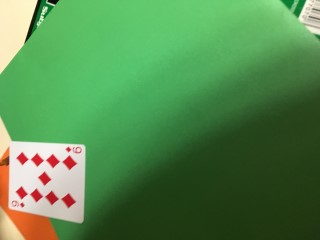NineOfDiamonds: (8, 141, 86, 223)
